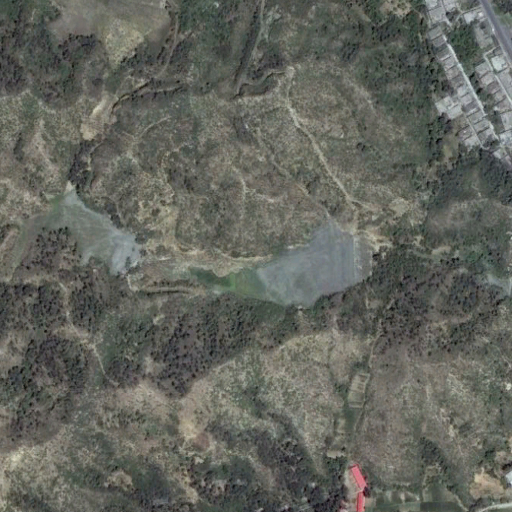tp: (187, 215, 376, 305)
